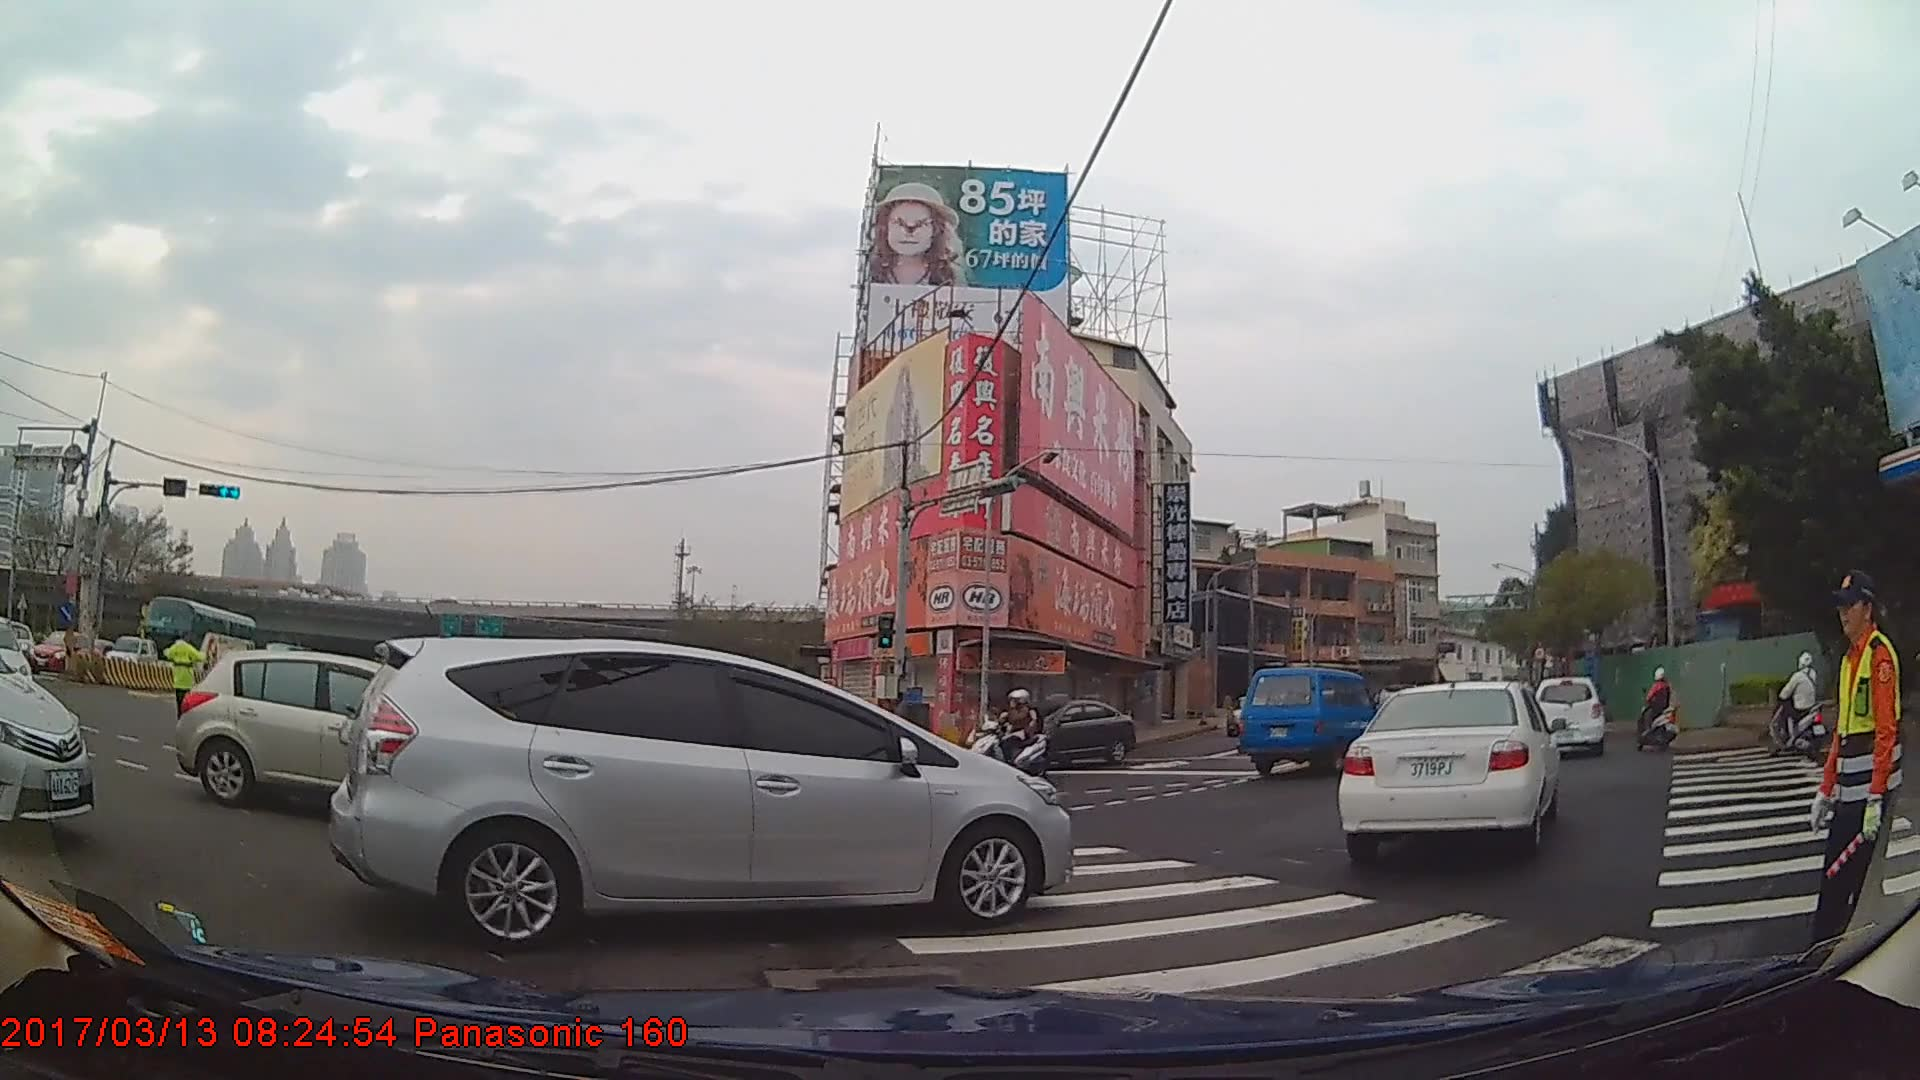pedestrian: (1813, 570, 1916, 989), (156, 625, 211, 729)
rider: (968, 692, 1051, 776), (1769, 648, 1823, 754), (1635, 665, 1679, 749)
vehicle: (324, 626, 1075, 940), (175, 642, 471, 814), (1333, 678, 1559, 855), (1229, 661, 1374, 774), (139, 591, 255, 677), (1009, 694, 1133, 767), (1529, 672, 1600, 756), (25, 625, 105, 676), (101, 629, 153, 672)
